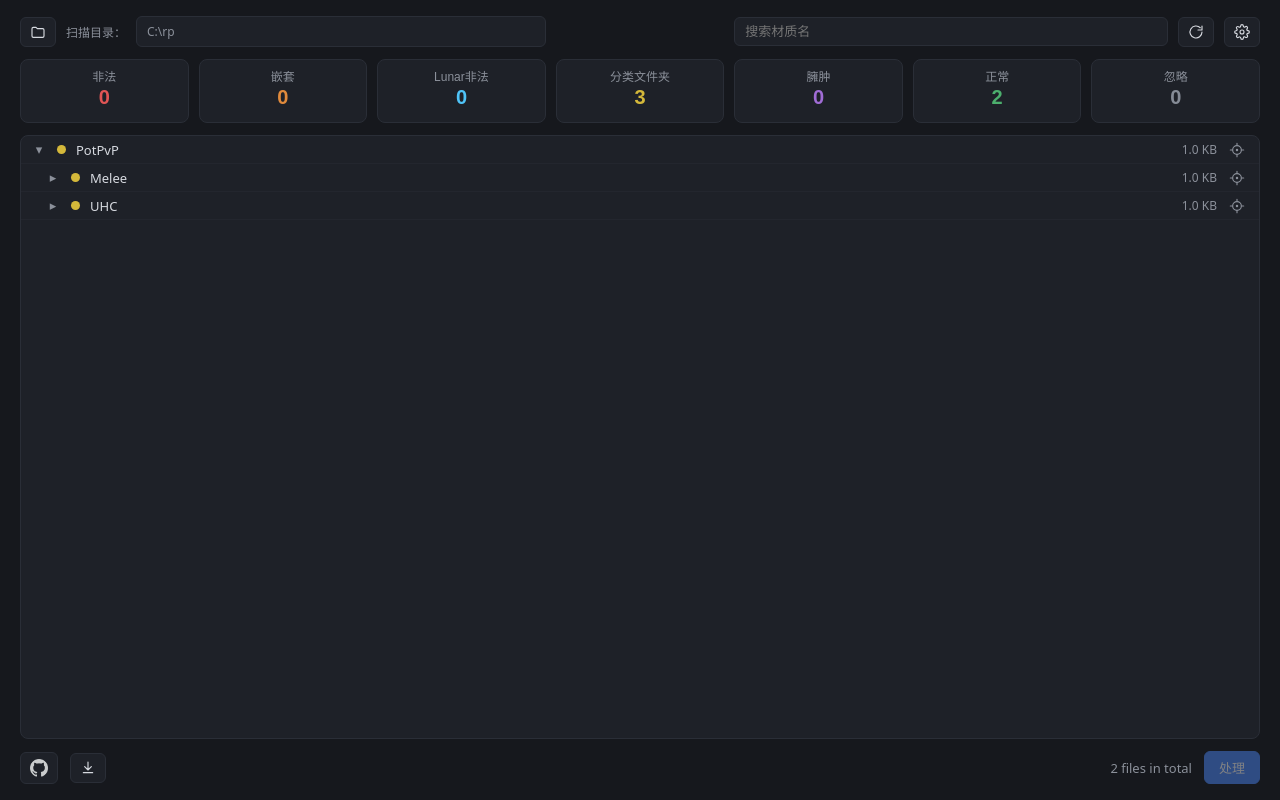
Test case: top-level folders start expanded while deeper classification folders collapse
This screenshot has width=1280, height=800.
Check: the text "PotPvP" is shown, box [76,140,119,158]
Check: the text "Melee" is shown, box [90,168,127,186]
Step 1. Click the button named "展开 Melee" → [53, 178], box [45,170,61,185]
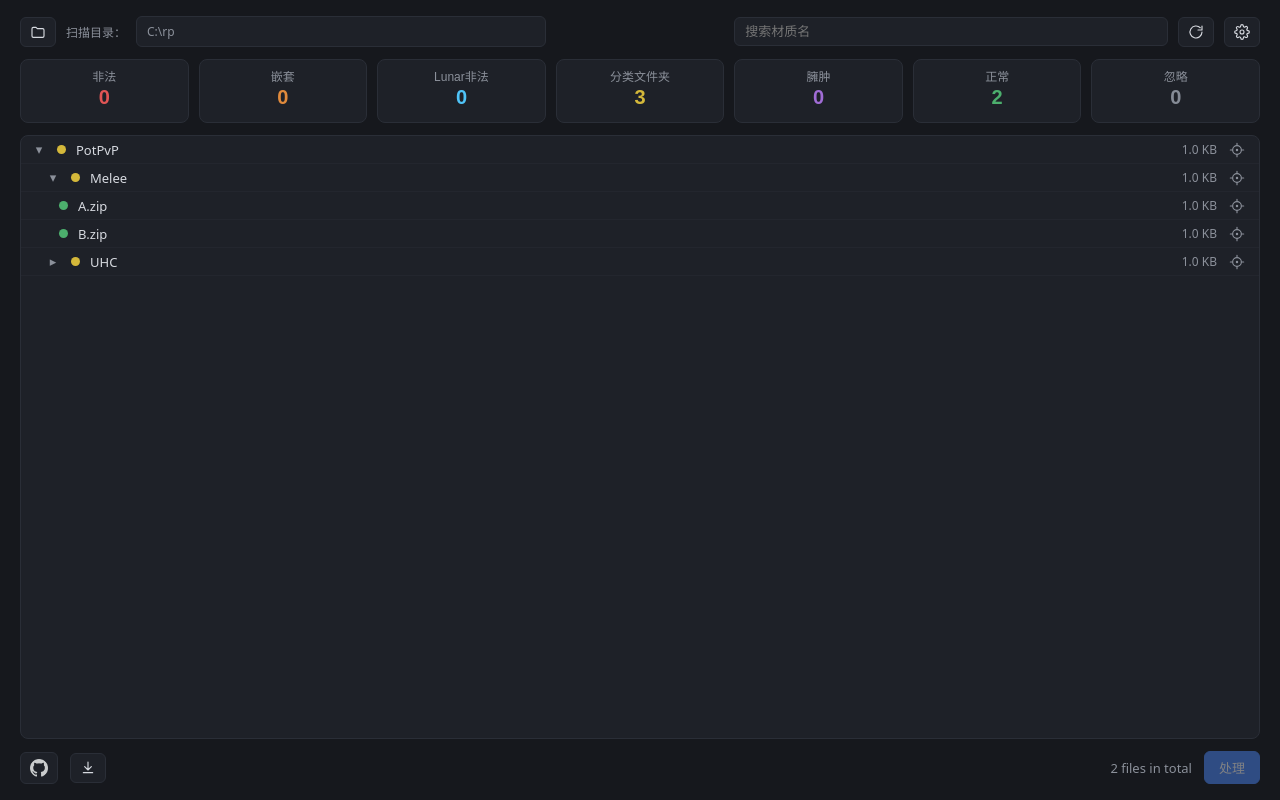
Check: the text "A.zip" is shown, box [78,196,107,214]
Check: the text "B.zip" is shown, box [78,224,107,242]
